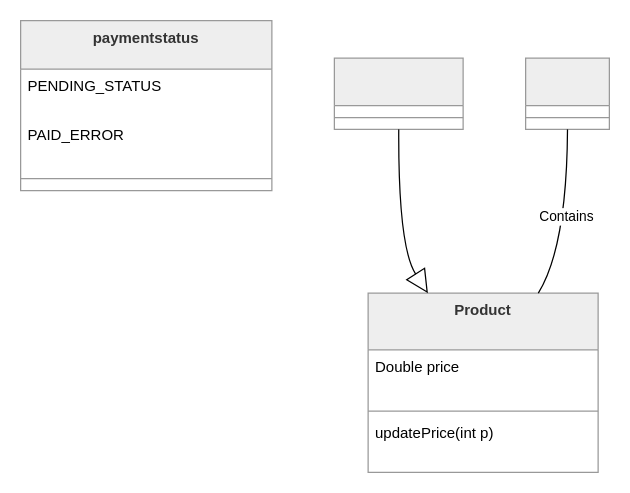
The diagram is 630 pixels wide and 493 high, and some of its shapes have lost their labels. The shapes that lost their labels are listed below. From the top down, each one's centre as x and y in pixels, then its label:
the point at 398,93: BaseEntity
the point at 566,93: Order
